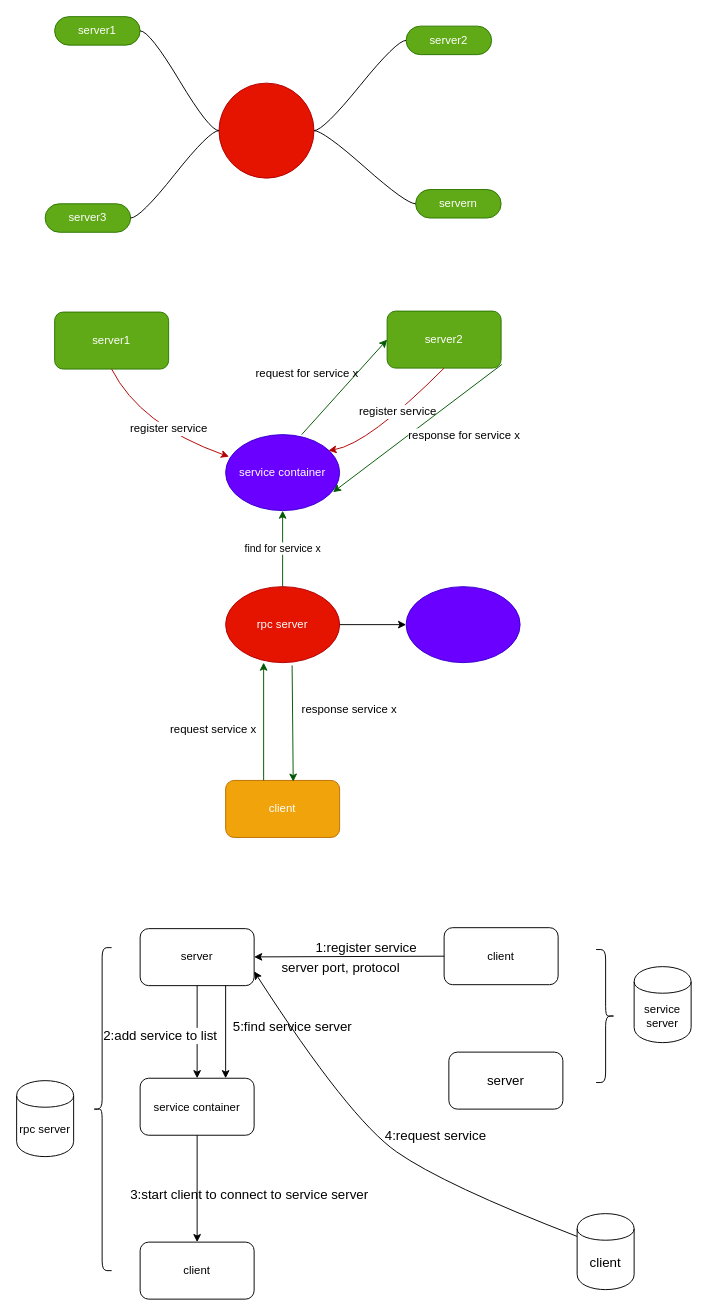
This 708x1316 diagram has some shape labels left out. Each missing label, with the centre of its shape:
load balance: [462,624]
rpc: [266,130]
